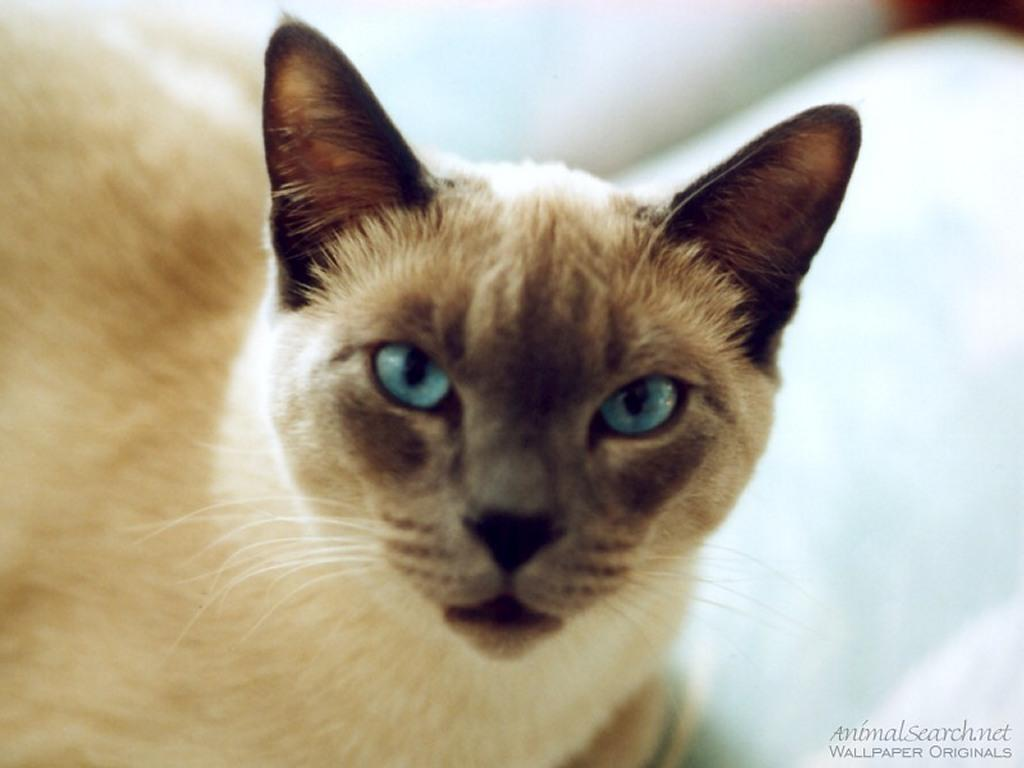siamese: (242, 1, 892, 667)
